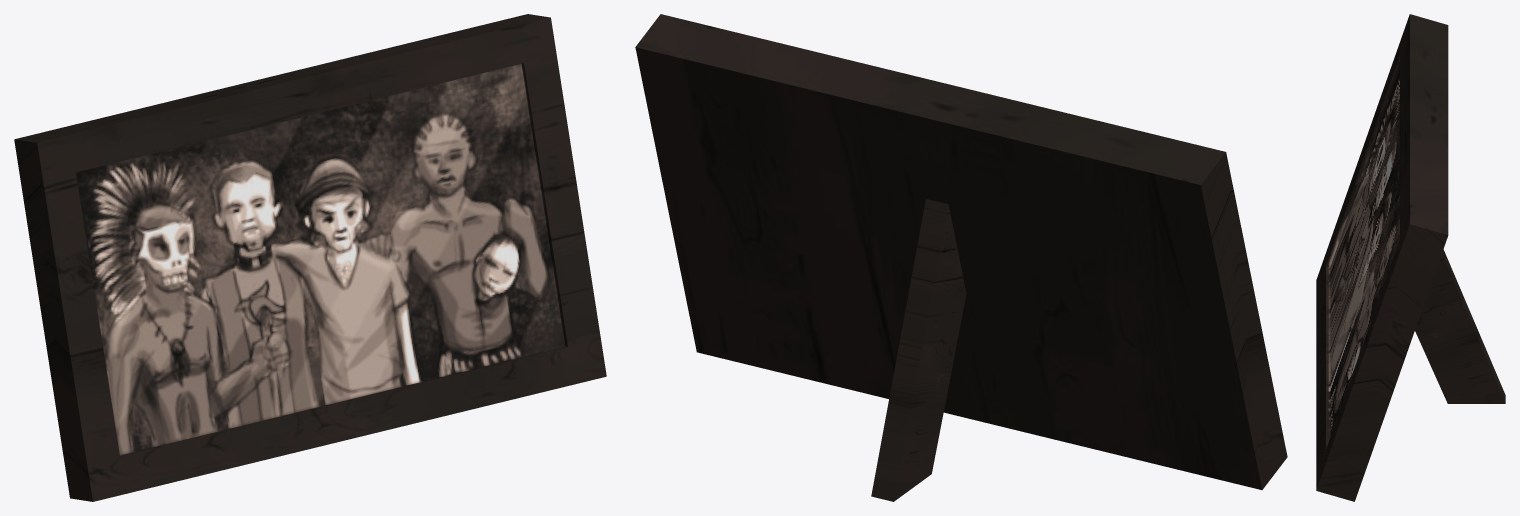
The model's file is cadre_friends.fbx.
The picture shows the model from 3 angles, left to right: view 1: azimuth 30°, elevation 25°; view 2: azimuth 150°, elevation 25°; view 3: azimuth 270°, elevation 25°; orthographic projection. The views are drawn at different scales.
Visible parts, largest first — view 1: polySurface3; view 2: polySurface3; view 3: polySurface3.
Part boxes in pixels (x1,y1,x2,y2): polySurface3: [14, 14, 606, 501]; polySurface3: [635, 14, 1287, 501]; polySurface3: [1316, 14, 1505, 501].
Size of the model in its own units: 8.14 by 5.08 by 3.1.
